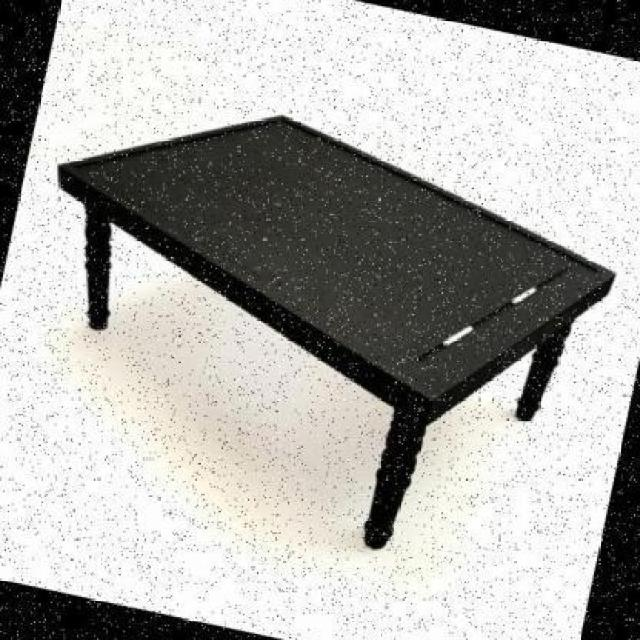tables: (55, 112, 616, 550)
